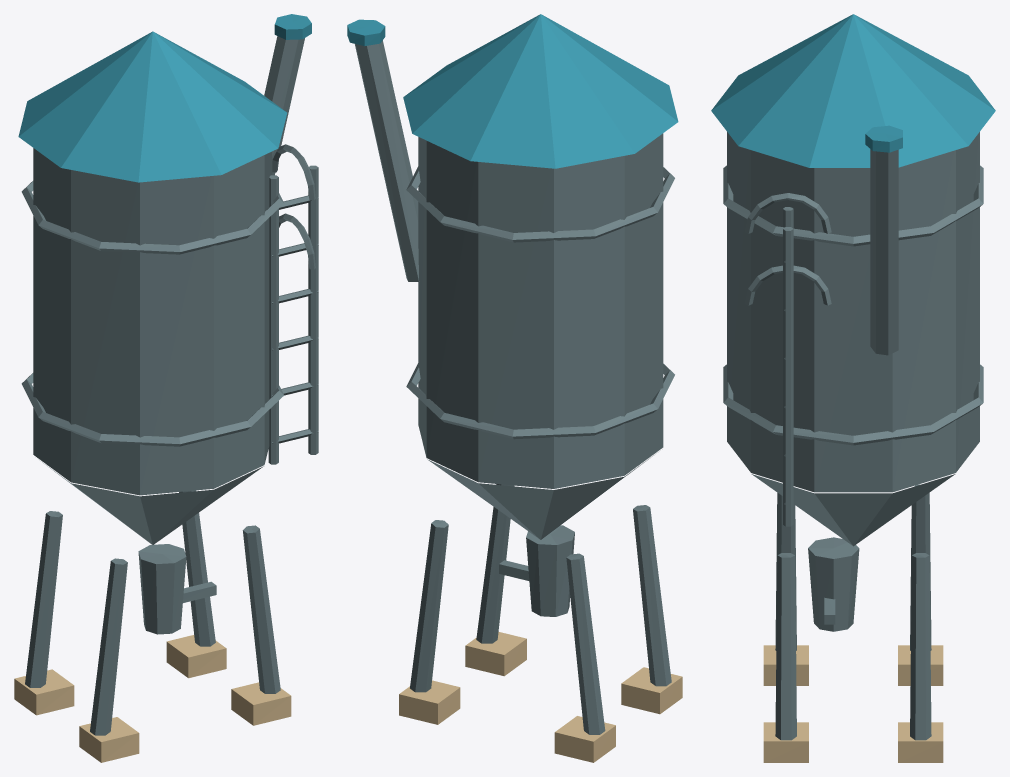
Rendered from silo.source.glb.
3 renders of one model, left to right at view 1: azimuth 30°, elevation 25°; view 2: azimuth 150°, elevation 25°; view 3: azimuth 270°, elevation 25°, orthographic. The views are drawn at different scales.
Visible parts, largest first — view 1: silo-faceted-cylinder-body-mesh, silo-conical-roof-mesh, silo-slender-steel-leg-mesh (×4), silo-stone-foot-mesh (×4), silo-reinforcing-band-mesh (×2), silo-ladder-rail-mesh (×2), silo-hopper-cone-mesh, silo-grain-chute-mesh, silo-fill-pipe-mesh, silo-fill-cap-mesh, silo-ladder-safety-hoop-mesh; view 2: silo-faceted-cylinder-body-mesh, silo-conical-roof-mesh, silo-slender-steel-leg-mesh (×4), silo-stone-foot-mesh (×4), silo-fill-pipe-mesh, silo-reinforcing-band-mesh (×2), silo-hopper-cone-mesh, silo-grain-chute-mesh, silo-fill-cap-mesh; view 3: silo-faceted-cylinder-body-mesh, silo-conical-roof-mesh, silo-slender-steel-leg-mesh (×4), silo-fill-pipe-mesh, silo-reinforcing-band-mesh (×2), silo-stone-foot-mesh (×4), silo-hopper-cone-mesh, silo-grain-chute-mesh, silo-ladder-rail-mesh, silo-ladder-safety-hoop-mesh (×2), silo-fill-cap-mesh.
Boxes of the visible parts, x1=… form: silo-faceted-cylinder-body-mesh: x1=33, y1=148, x2=272, y2=495; silo-conical-roof-mesh: x1=18, y1=31, x2=287, y2=182; silo-slender-steel-leg-mesh (×4): x1=25, y1=490, x2=280, y2=735; silo-stone-foot-mesh (×4): x1=14, y1=635, x2=291, y2=762; silo-reinforcing-band-mesh (×2): x1=21, y1=181, x2=284, y2=446; silo-ladder-rail-mesh (×2): x1=268, y1=165, x2=318, y2=464; silo-hopper-cone-mesh: x1=42, y1=462, x2=263, y2=544; silo-grain-chute-mesh: x1=138, y1=544, x2=186, y2=634; silo-fill-pipe-mesh: x1=264, y1=36, x2=304, y2=175; silo-fill-cap-mesh: x1=274, y1=14, x2=311, y2=39; silo-ladder-safety-hoop-mesh: x1=272, y1=144, x2=315, y2=200; silo-faceted-cylinder-body-mesh: x1=418, y1=133, x2=663, y2=488; silo-conical-roof-mesh: x1=403, y1=14, x2=678, y2=168; silo-slender-steel-leg-mesh (×4): x1=410, y1=484, x2=671, y2=734; silo-stone-foot-mesh (×4): x1=399, y1=632, x2=682, y2=762; silo-fill-pipe-mesh: x1=355, y1=40, x2=419, y2=281; silo-reinforcing-band-mesh (×2): x1=406, y1=166, x2=674, y2=439; silo-hopper-cone-mesh: x1=427, y1=455, x2=653, y2=539; silo-grain-chute-mesh: x1=526, y1=525, x2=574, y2=616; silo-fill-cap-mesh: x1=347, y1=19, x2=385, y2=46; silo-faceted-cylinder-body-mesh: x1=727, y1=132, x2=979, y2=492; silo-conical-roof-mesh: x1=711, y1=14, x2=995, y2=167; silo-slender-steel-leg-mesh (×4): x1=775, y1=484, x2=931, y2=740; silo-fill-pipe-mesh: x1=870, y1=149, x2=898, y2=355; silo-reinforcing-band-mesh (×2): x1=723, y1=165, x2=983, y2=445; silo-stone-foot-mesh (×4): x1=763, y1=645, x2=943, y2=762; silo-hopper-cone-mesh: x1=751, y1=474, x2=955, y2=546; silo-grain-chute-mesh: x1=808, y1=537, x2=859, y2=631; silo-ladder-rail-mesh: x1=783, y1=227, x2=793, y2=526; silo-ladder-safety-hoop-mesh (×2): x1=744, y1=193, x2=831, y2=305; silo-fill-cap-mesh: x1=865, y1=125, x2=902, y2=152.
Bounding box in the file's own units: 1.73 × 3.91 × 1.44.
